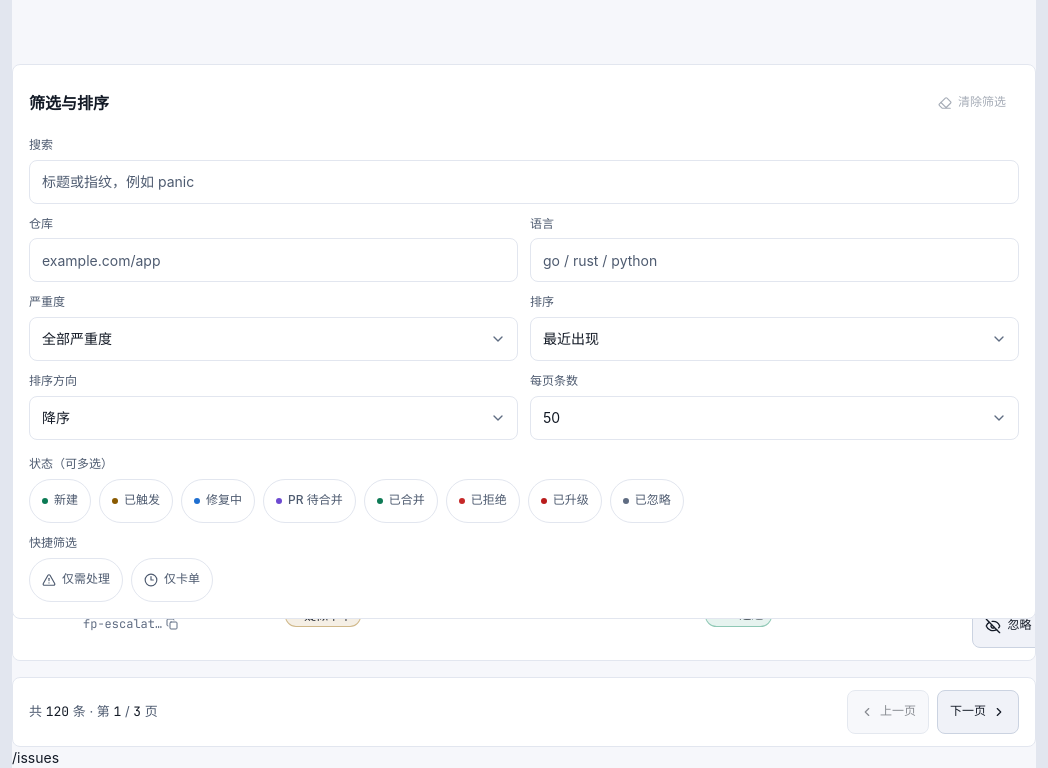
Test: IssuesPage › paginates with next/prev and resets to page 1 when page size changes
(page scrolled)
Expected: the navigation bar named "问题单分页" shows "第 1 / 3 页", [12,677,1036,747]
Expected: the button "上一页" is disabled, [847,690,929,734]
Click the button "下一页".
click(978, 712)  # box [937,690,1019,734]
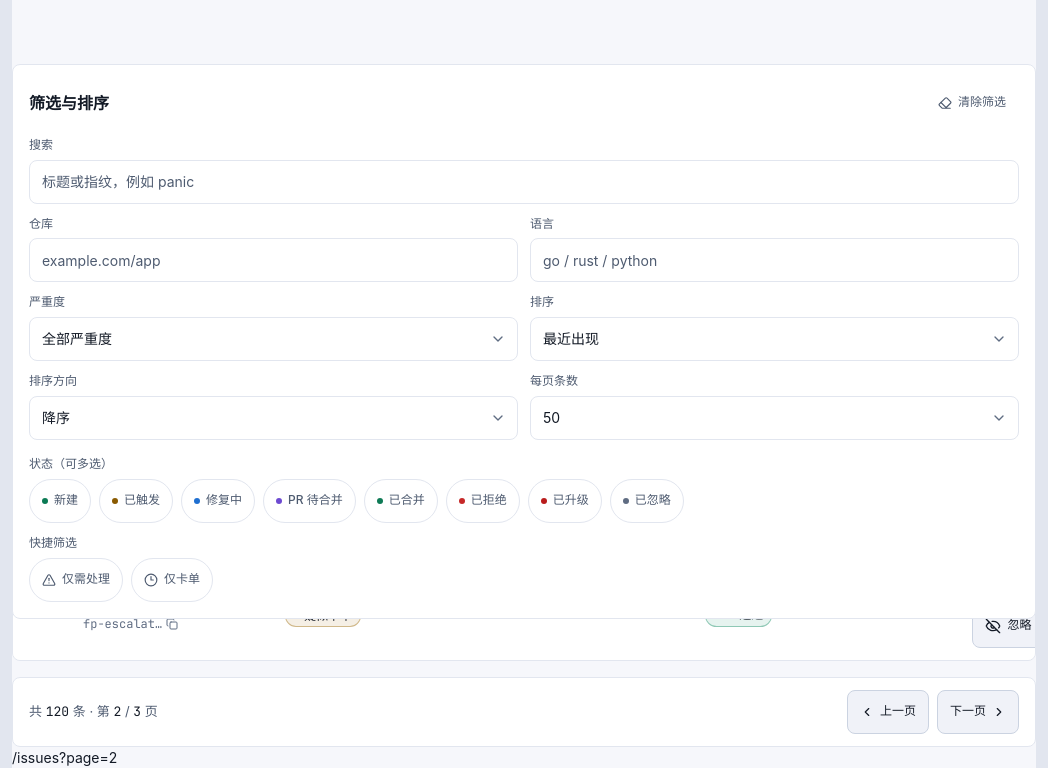
Now the navigation bar named "问题单分页" shows "第 2 / 3 页", box [12,677,1036,747]
Click the button "上一页".
click(888, 712)  # box [847,690,929,734]
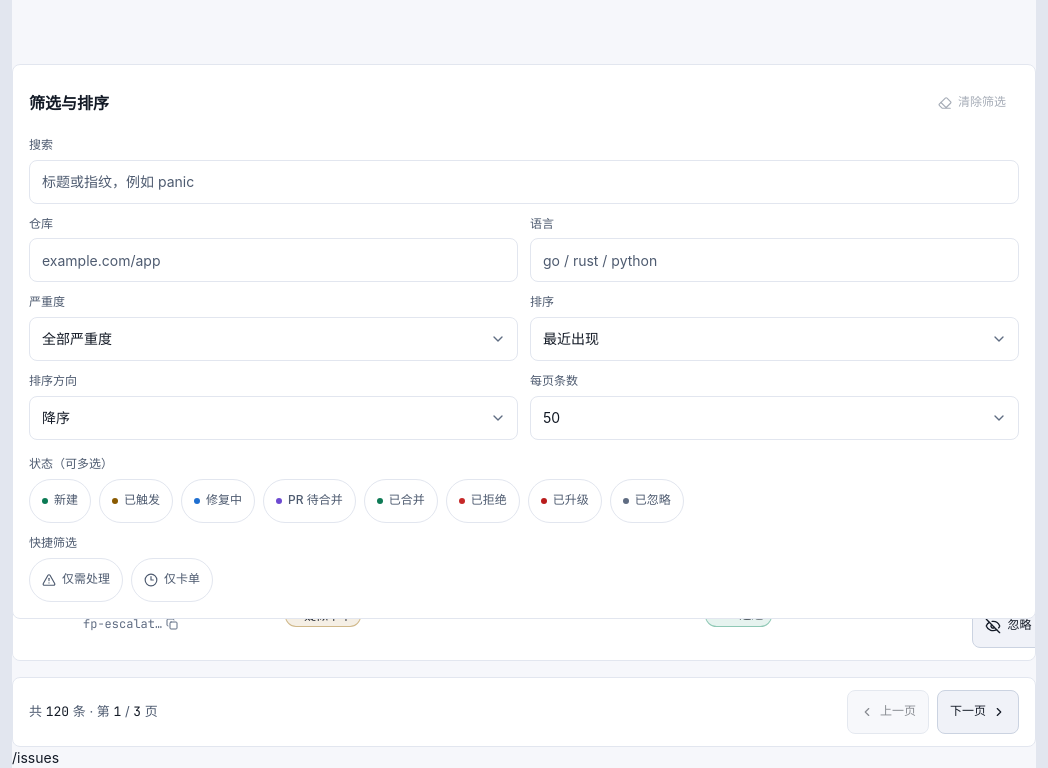
Expected: the text with test id "location" reads "/issues", [12,749,59,766]
Now the navigation bar named "问题单分页" shows "第 1 / 3 页", box [12,677,1036,747]
Select "100" in the dropdown labelled "每页条数" at (774, 418), box [530,396,1019,440]
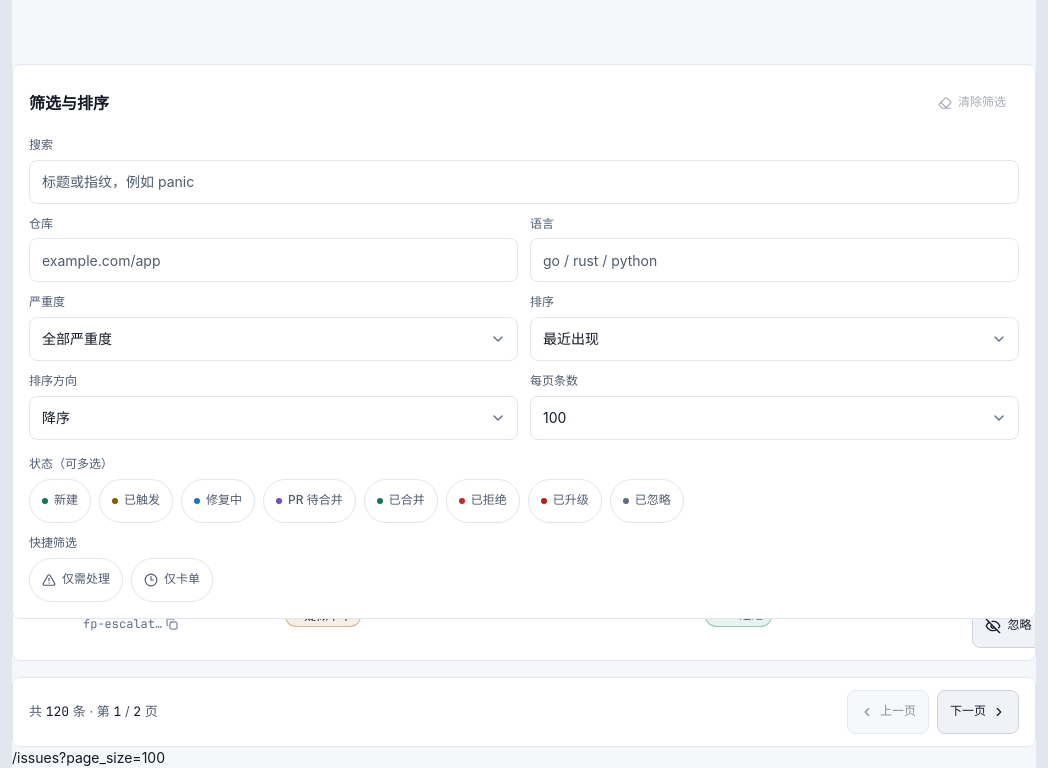
Now the navigation bar named "问题单分页" shows "第 1 / 2 页", box [12,677,1036,747]
